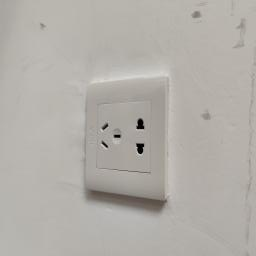outlet: (77, 65, 177, 206)
